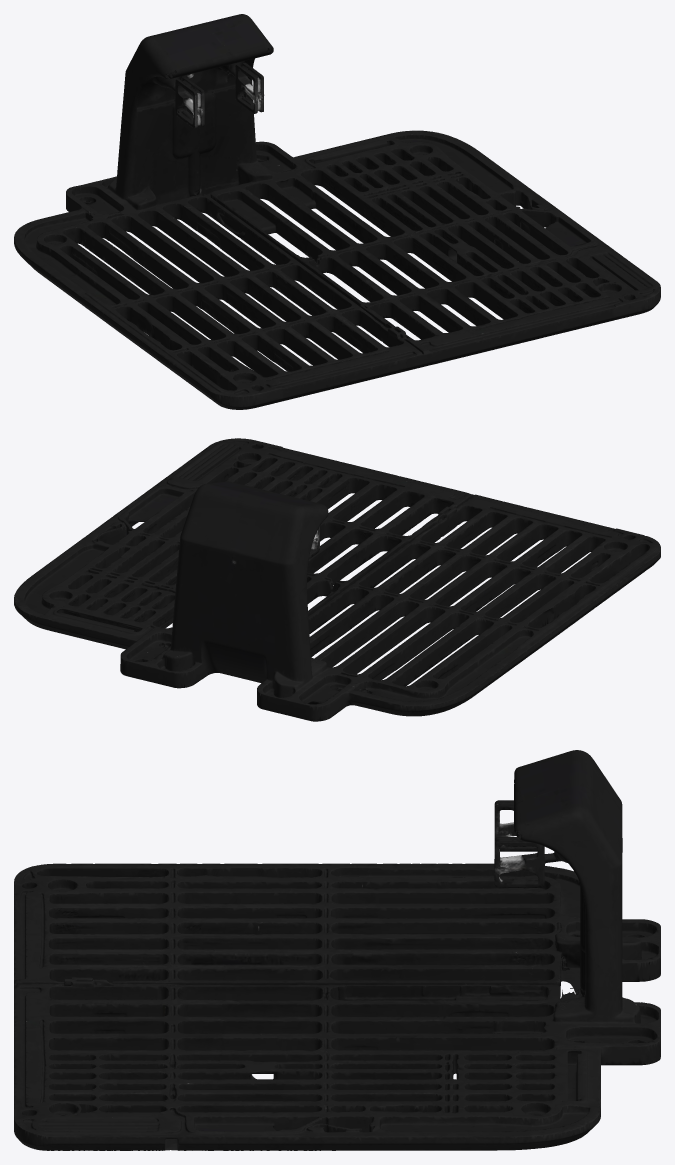
File: WORX_Grid_Platform.glb
3 views of the same model, one above another, from view 1: azimuth 30°, elevation 25°; view 2: azimuth 150°, elevation 25°; view 3: azimuth 270°, elevation 25° (orthographic). The views are drawn at different scales.
Size of the model in its own units: 1.9 by 0.7249 by 1.9.
Materials: 1 (1 with a texture image).
